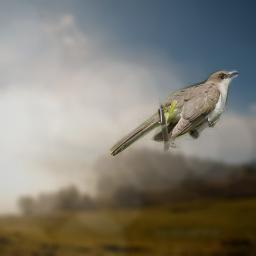Cuckoo: (108, 69, 238, 156)
